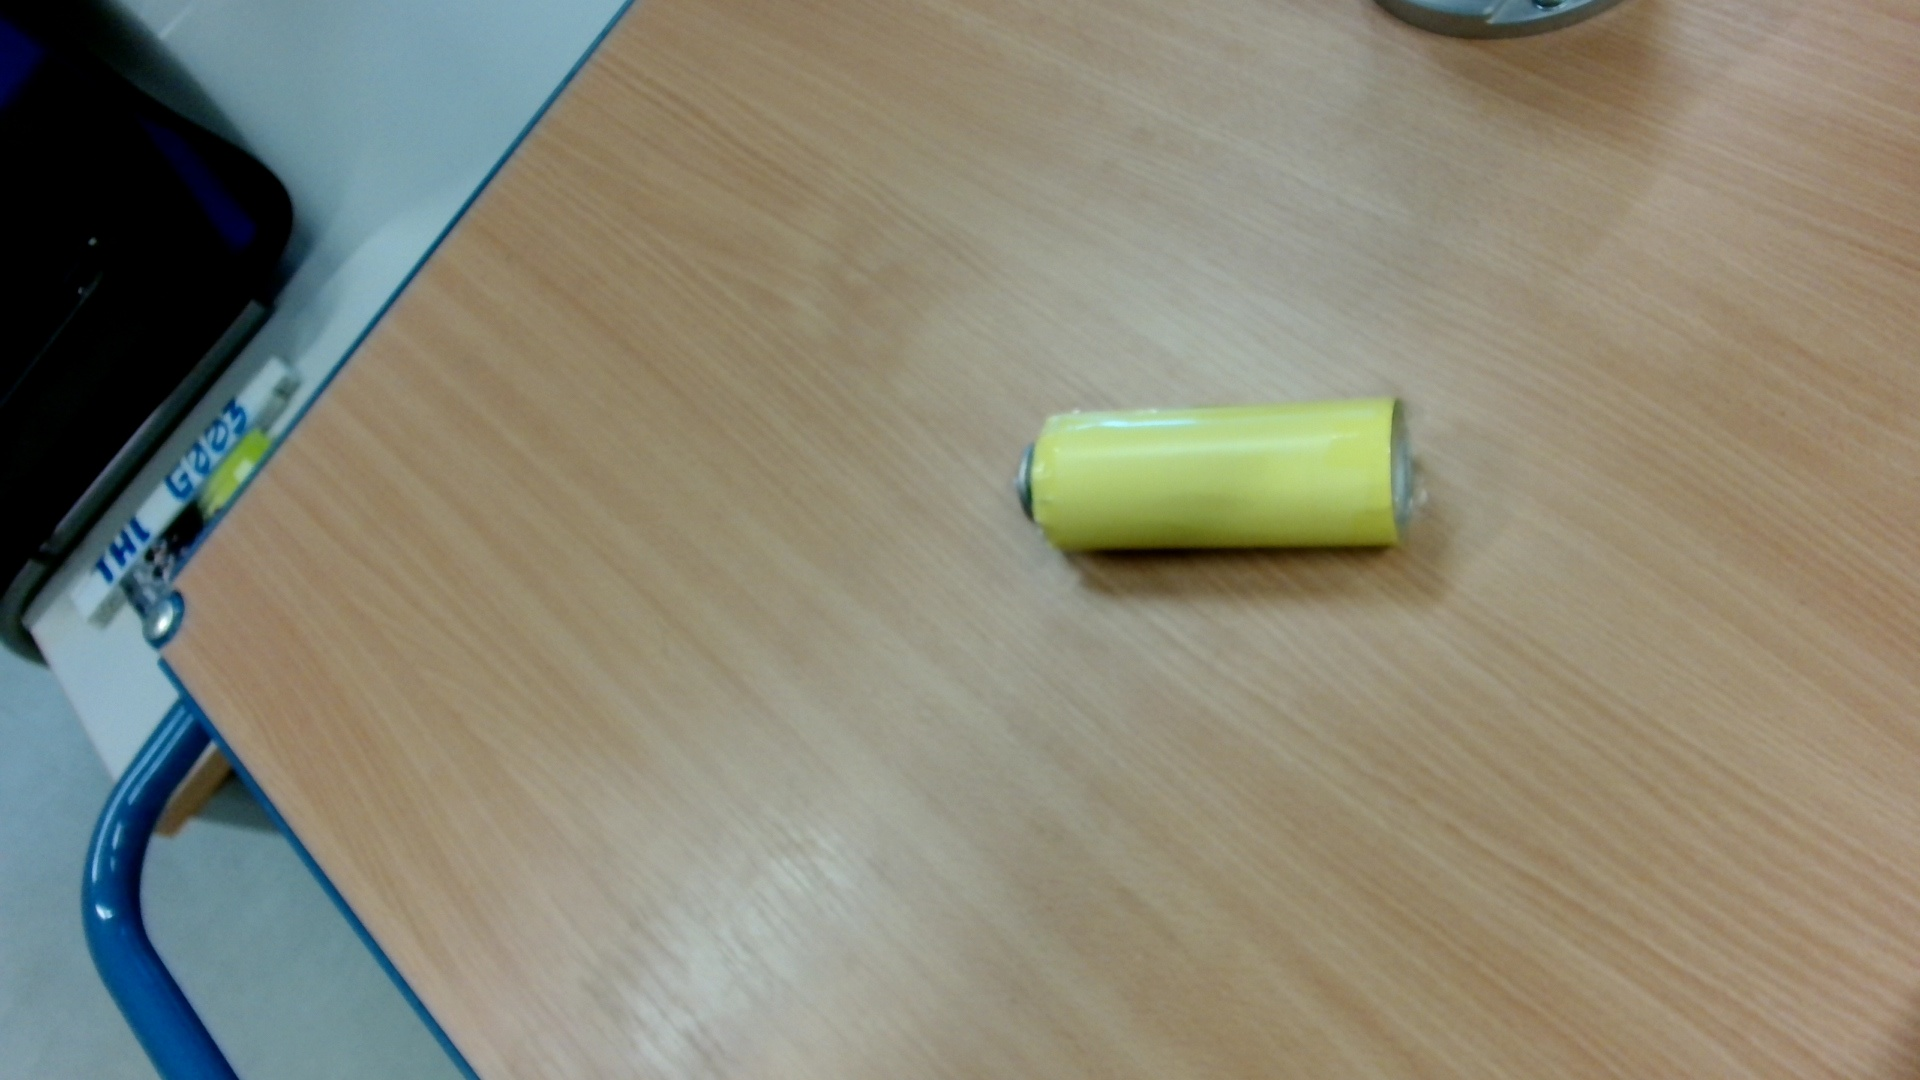Cylinder: (998, 392, 1441, 566)
